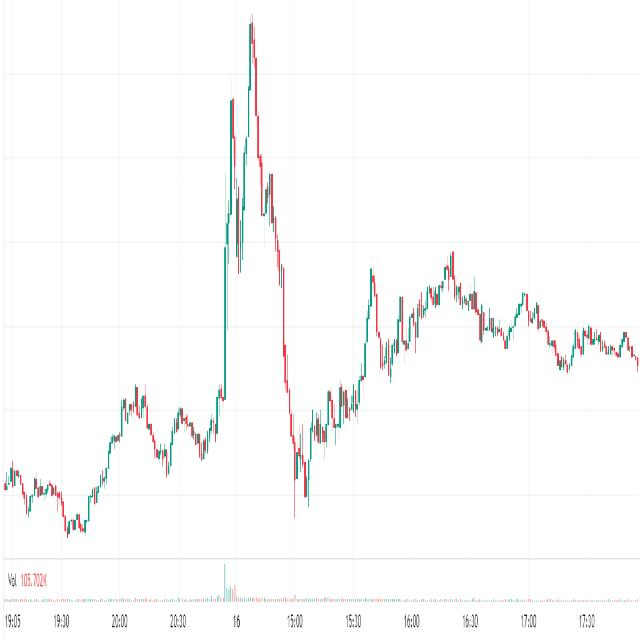Double-Bottom: (376, 325, 396, 394)
Head-Shoulders: (211, 0, 302, 515)
Rounding-Top: (503, 271, 569, 384), (166, 398, 205, 484)
